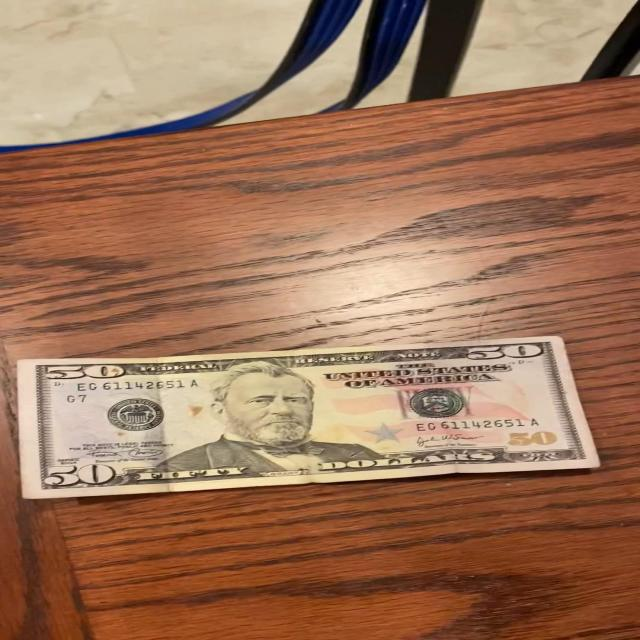50-Front: (0, 333, 609, 505)
